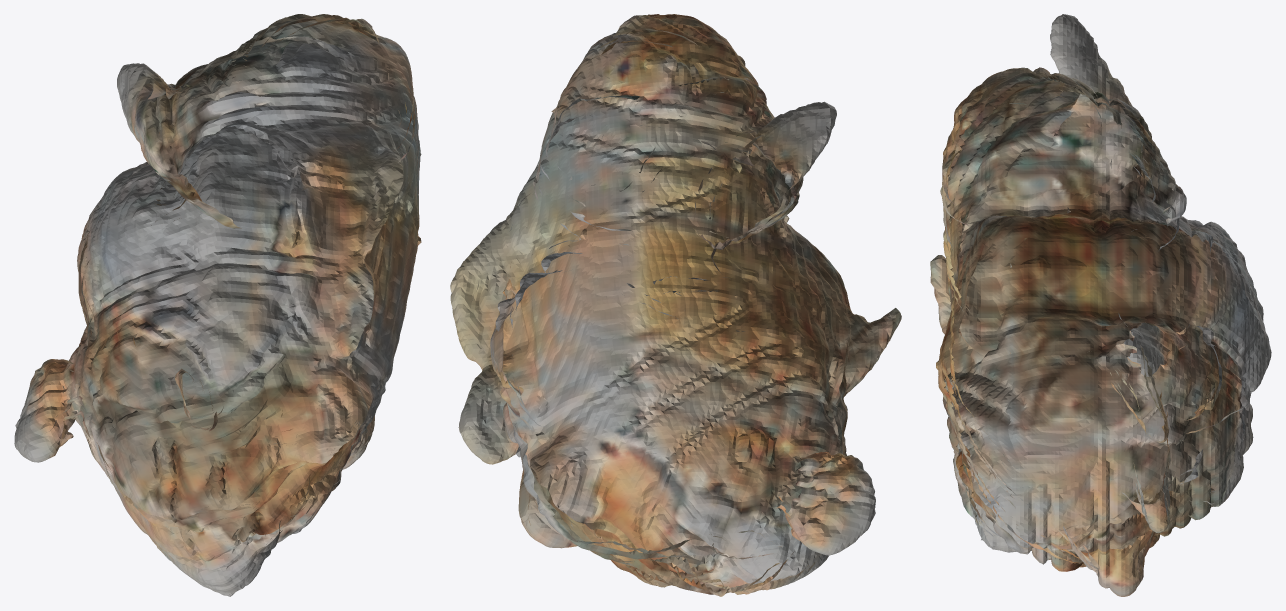
File: fish-clownfish-full.glb
3 views of the same model, side by side, from view 1: azimuth 30°, elevation 25°; view 2: azimuth 150°, elevation 25°; view 3: azimuth 270°, elevation 25° (orthographic). The views are drawn at different scales.
Parts seen in each view (by area): view 1: world; view 2: world; view 3: world.
Boxes of the visible parts, x1,y1,x2,y2 form: world: (14, 14, 421, 596); world: (450, 14, 901, 596); world: (930, 14, 1271, 596).
Size of the model in its own units: 0.8027 by 1.01 by 0.5969.
